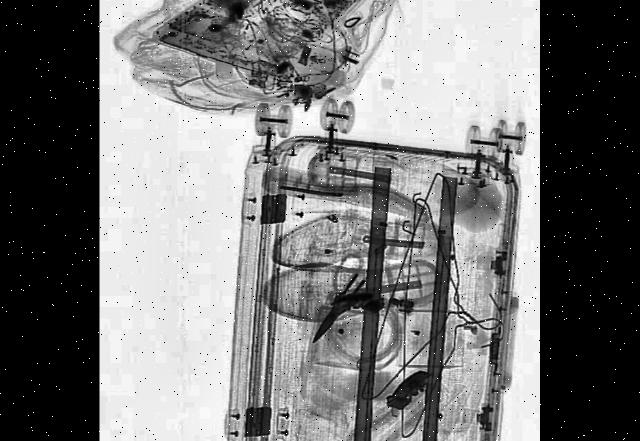Pliers: (307, 269, 364, 352)
